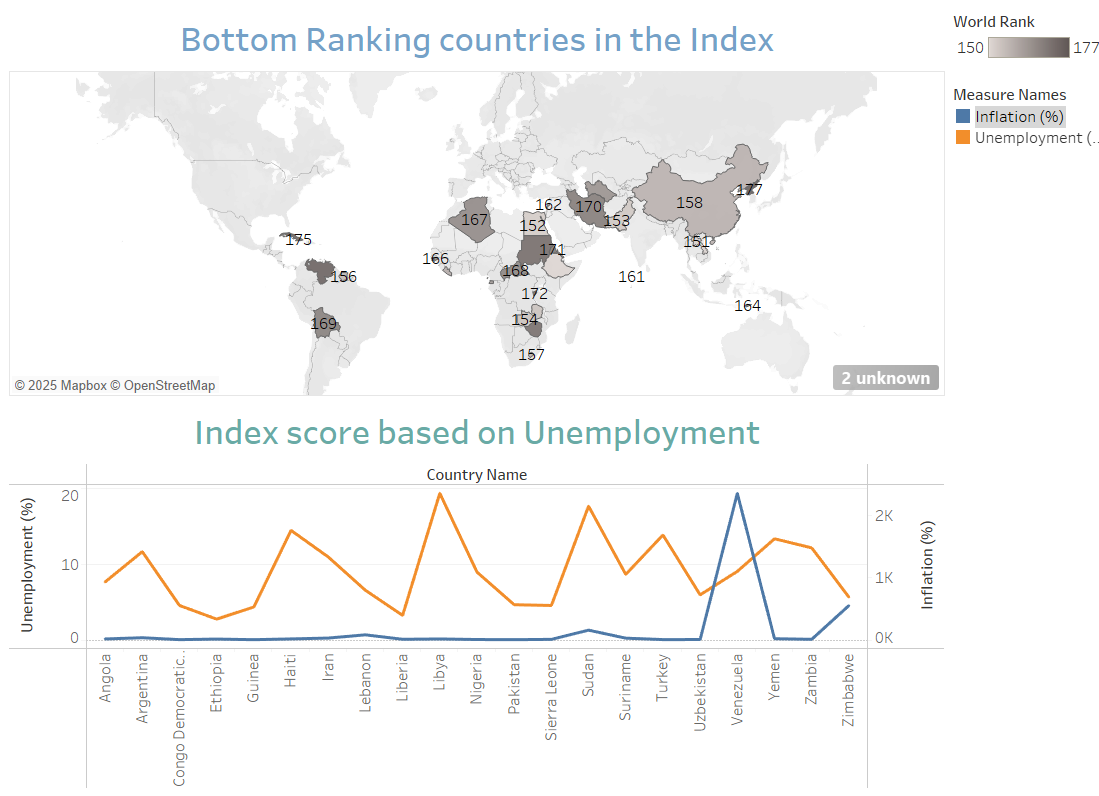

The dashboard page shown, as its layout file describes it:
{"tool":"tableau","page":{"name":"Dashboard 2","canvas":[1000,1000],"units":"permille","ordinal":1},"visuals":[{"type":"worksheet","title":"Sheet 3","mark":"Multipolygon","box":[5.6,10,876.1,490]},{"type":"legend","title":"Sheet 3","param":"[federated.1ie4jwt19ou0dz14953ty14sc1rs].[sum:World Rank:qk]","box":[881.7,10,112.7,91]},{"type":"legend","title":"Sheet 4","param":"[federated.1ie4jwt19ou0dz14953ty14sc1rs].[:Measure Names]","box":[881.7,101,112.7,89.8]},{"type":"worksheet","title":"Sheet 4","mark":"Line","rows":["Unemployment (%)","Inflation (%)"],"cols":["Country Name"],"box":[5.6,500,876.1,490]}]}

Visuals, with their boxes on the dashboard's canvas, which has no fixed pixel size, in thousandths of its width and height (x1, y1, x2, y2). These are canvas units, not pixel positions in the 1099x796 screenshot, which may show the page scaled, cropped or inside an application window:
"Sheet 3" worksheet (Multipolygon marks): Rect(6, 10, 882, 500)
"Sheet 3" legend: Rect(882, 10, 994, 101)
"Sheet 4" legend: Rect(882, 101, 994, 191)
"Sheet 4" worksheet (Line marks): Rect(6, 500, 882, 990)
